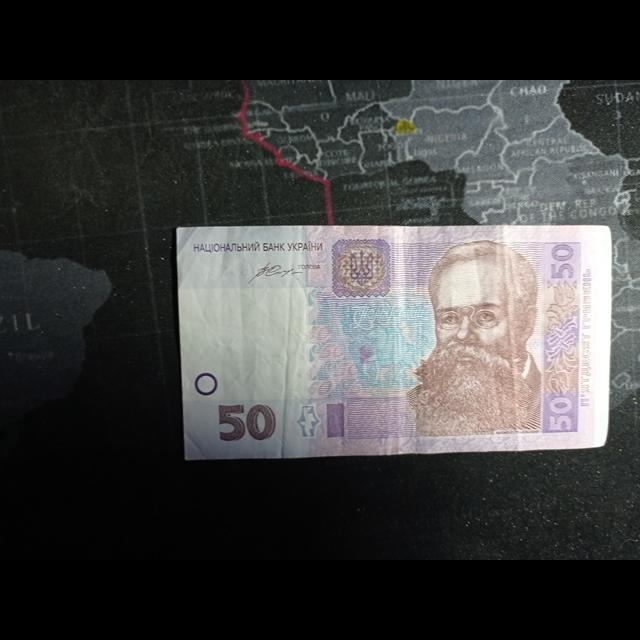50uah: (178, 225, 604, 450)
